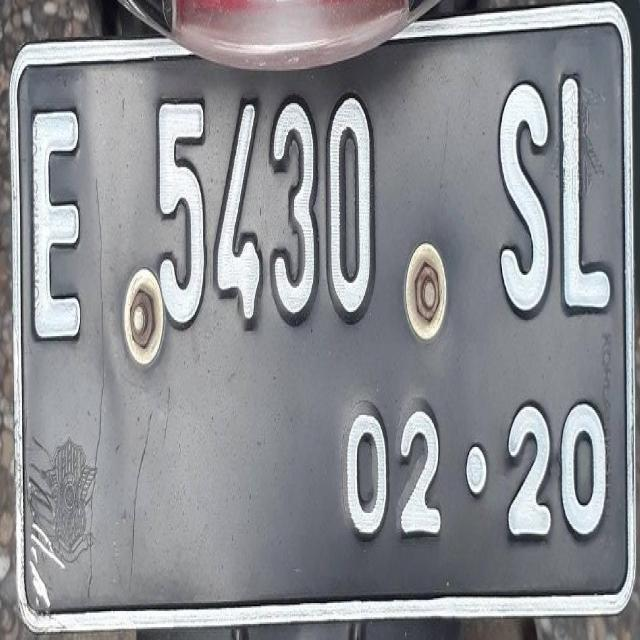plate: (7, 26, 639, 624)
